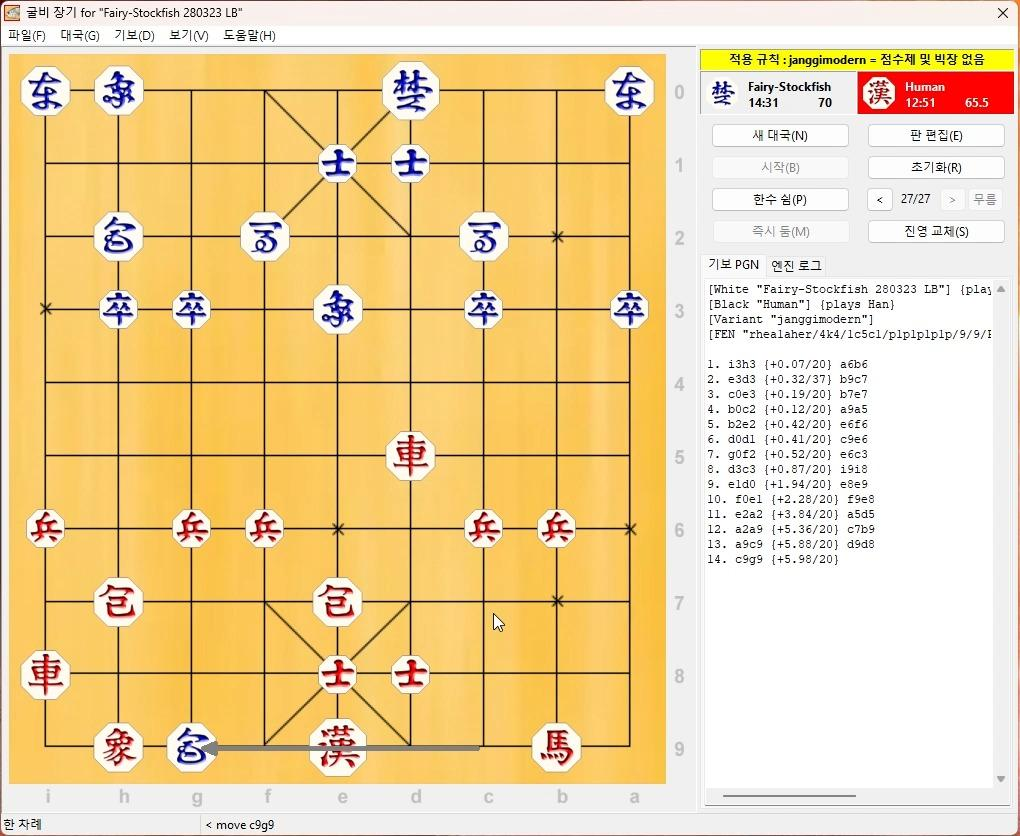cha_green: (603, 68, 653, 115), (21, 70, 69, 114)
cha_red: (389, 433, 438, 479), (23, 654, 72, 698)
jol_green: (466, 293, 506, 329), (171, 292, 210, 328), (610, 291, 649, 327), (98, 293, 137, 328)
jol_red: (463, 510, 503, 550), (537, 512, 579, 547), (24, 512, 65, 547), (173, 512, 214, 547), (243, 512, 283, 547)
ma_green: (461, 213, 509, 260), (240, 215, 290, 260)
ma_red: (533, 724, 583, 770)
po_green: (165, 723, 216, 770), (93, 215, 144, 261)
po_red: (314, 577, 364, 622), (94, 577, 144, 621)
sa_green: (391, 143, 431, 184), (319, 143, 359, 183)
sa_red: (317, 655, 358, 692), (392, 655, 428, 693)
sang_green: (94, 68, 144, 114), (315, 286, 364, 330)
sang_red: (91, 725, 144, 770)
wang_green: (382, 64, 439, 117)
wang_red: (307, 722, 369, 776)
